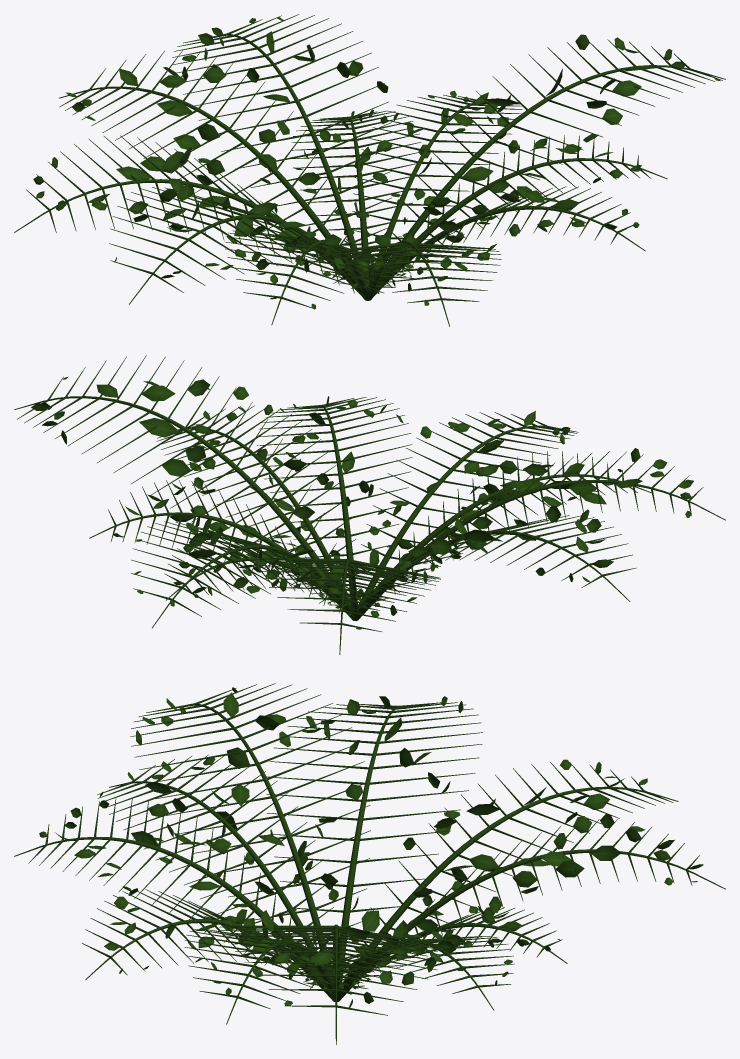
Rendered from fern_large_lod2.gltf.
3 renders of one model, top to bottom at view 1: azimuth 30°, elevation 25°; view 2: azimuth 150°, elevation 25°; view 3: azimuth 270°, elevation 25°, orthographic. The views are drawn at different scales.
Parts seen in each view (by area): view 1: fern_large_lod2; view 2: fern_large_lod2; view 3: fern_large_lod2.
Boxes of the visible parts, left/top/right/bottom form: fern_large_lod2: left=14, top=14, right=725, bottom=326; fern_large_lod2: left=14, top=355, right=725, bottom=654; fern_large_lod2: left=14, top=683, right=725, bottom=1044.
Size of the model in its own units: 1.8 by 0.4513 by 1.56.
Materials: 1 (1 with a texture image).
